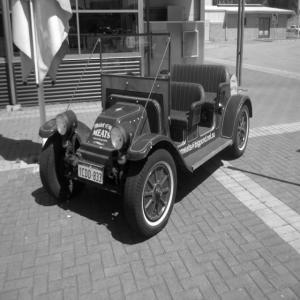Plate: (78, 161, 104, 184)
